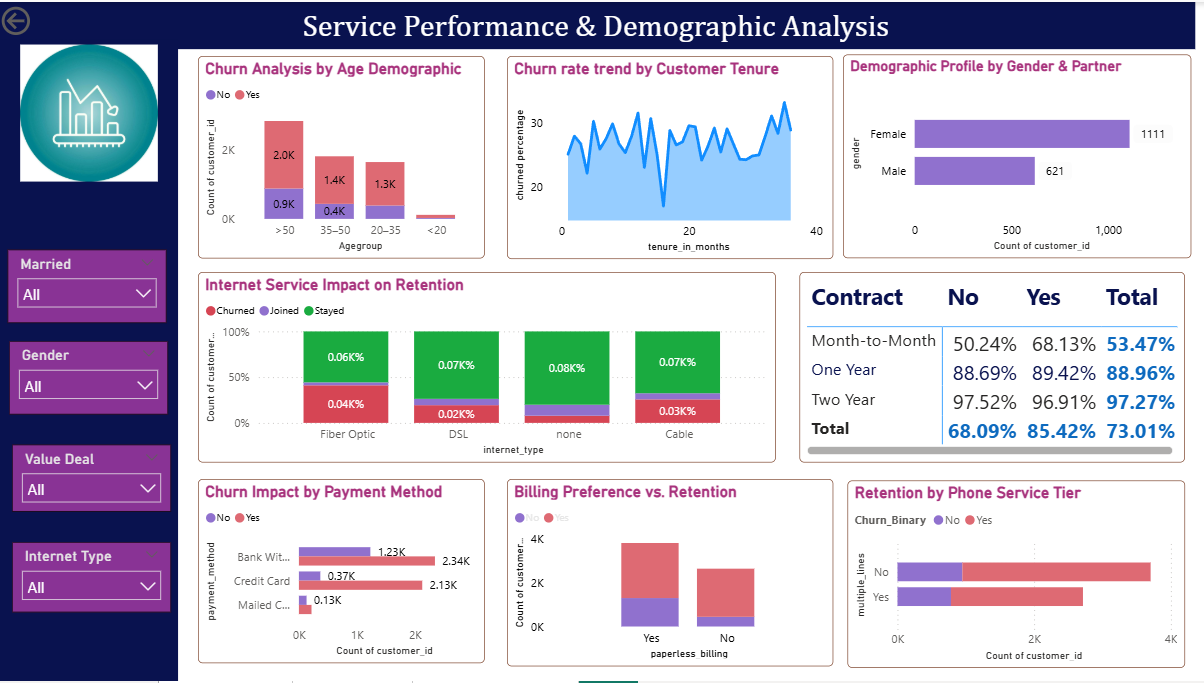

Layout of this report page (visuals, bound fields, positions):
{"tool":"powerbi","page":{"name":"Service ","canvas":[1280,720],"ordinal":1},"visuals":[{"type":"textbox","box":[0,0,1270.4,50],"z":0},{"type":"hundredPercentStackedColumnChart","title":"Internet Service Impact on Retention","fields":{"Category":["churn prod_churn.internet_type"],"Y":["CountNonNull(churn prod_churn.customer_id)"],"Series":["churn prod_churn.customer_status"]},"box":[213.1,286.3,612.4,202],"z":1000},{"type":"barChart","title":"Retention by Phone Service Tier","fields":{"Category":["churn prod_churn.multiple_lines"],"Y":["CountNonNull(churn prod_churn.customer_id)"],"Series":["churn prod_churn.Churn_Binary"]},"box":[901.9,507.4,357.9,198.8],"z":2000},{"type":"clusteredBarChart","title":"Demographic Profile by Gender & Partner","fields":{"Category":["churn prod_churn.gender"],"Y":["CountNonNull(churn prod_churn.customer_id)"]},"box":[897.1,55.7,369,216.3],"z":3000},{"type":"actionButton","box":[0,0,100,40],"z":4000},{"type":"columnChart","title":"Billing Preference vs. Retention","fields":{"Category":["churn prod_churn.paperless_billing"],"Y":["CountNonNull(churn prod_churn.customer_id)"],"Series":["churn prod_churn.Churn_Binary"]},"box":[540.5,506.5,345.8,198.4],"z":5000},{"type":"shape","box":[0,39.8,192,680.4],"z":6000},{"type":"slicer","fields":{"Values":["churn prod_churn.married"]},"box":[11.1,262.5,168.6,77.9],"z":7000},{"type":"slicer","fields":{"Values":["churn prod_churn.gender"]},"box":[12.7,359.5,168.6,77.9],"z":8000},{"type":"slicer","fields":{"Values":["churn prod_churn.value_deal"]},"box":[15.9,469.2,168.6,71.6],"z":9000},{"type":"slicer","fields":{"Values":["churn prod_churn.internet_type"]},"box":[15.9,572.6,168.6,74.8],"z":10000},{"type":"image","box":[15.9,39.8,163.8,155.9],"z":11000},{"type":"clusteredBarChart","title":"Churn Impact by Payment Method","fields":{"Category":["churn prod_churn.payment_method"],"Y":["CountNonNull(churn prod_churn.customer_id)"],"Series":["churn prod_churn.Churn_Binary"]},"box":[213.1,505.8,303.8,195.6],"z":12000},{"type":"columnChart","title":"Churn Analysis by Age Demographic","fields":{"Category":["churn prod_churn.Agegroup"],"Y":["CountNonNull(churn prod_churn.customer_id)"],"Series":["churn prod_churn.Churn_Binary"]},"box":[213.1,57.3,303.8,214.7],"z":13000},{"type":"areaChart","title":"Churn rate trend by Customer Tenure ","fields":{"Category":["churn prod_churn.tenure_in_months"],"Y":["churn prod_churn.churned percentage"]},"box":[540.5,56.7,345.8,215.4],"z":14000},{"type":"pivotTable","fields":{"Rows":["churn prod_churn.contract"],"Columns":["churn prod_churn.online_security"],"Values":["churn prod_churn.Churn Rate %"]},"box":[851,286.3,408.8,202],"z":15000}]}

Visuals, with their boxes in screenshot pixels (x1, y1, x2, y2), scaled from the page's 1280x720 canvas onto the 1204x683 screenshot:
textbox: box=[0, 0, 1195, 47]
"Internet Service Impact on Retention" hundredPercentStackedColumnChart: box=[200, 272, 776, 463]
"Retention by Phone Service Tier" barChart: box=[848, 481, 1185, 670]
"Demographic Profile by Gender & Partner" clusteredBarChart: box=[844, 53, 1191, 258]
actionButton: box=[0, 0, 94, 38]
"Billing Preference vs. Retention" columnChart: box=[508, 480, 834, 669]
shape: box=[0, 38, 181, 682]
slicer - churn prod_churn.married: box=[10, 249, 169, 323]
slicer - churn prod_churn.gender: box=[12, 341, 171, 415]
slicer - churn prod_churn.value_deal: box=[15, 445, 174, 513]
slicer - churn prod_churn.internet_type: box=[15, 543, 174, 614]
image: box=[15, 38, 169, 186]
"Churn Impact by Payment Method" clusteredBarChart: box=[200, 480, 486, 665]
"Churn Analysis by Age Demographic" columnChart: box=[200, 54, 486, 258]
"Churn rate trend by Customer Tenure " areaChart: box=[508, 54, 834, 258]
pivotTable - churn prod_churn.contract x churn prod_churn.online_security: box=[800, 272, 1185, 463]
